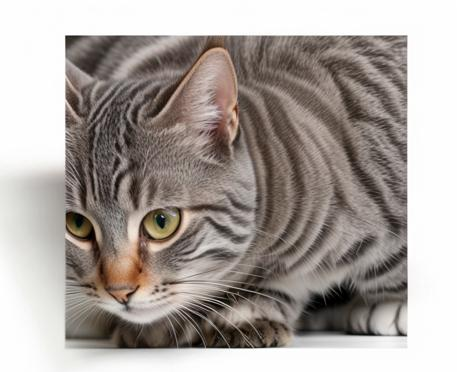cat: (64, 35, 407, 348)
